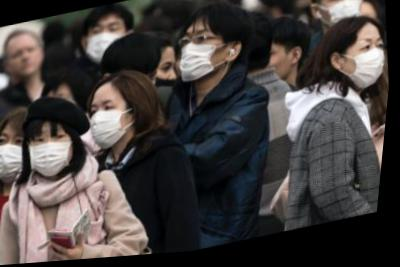NONE: (4, 41, 48, 81)
OK: (26, 123, 82, 183), (87, 91, 138, 154), (345, 38, 393, 99), (176, 29, 226, 87), (81, 21, 132, 69), (1, 126, 38, 190), (321, 1, 368, 36)
WRONG: (146, 55, 186, 114)
